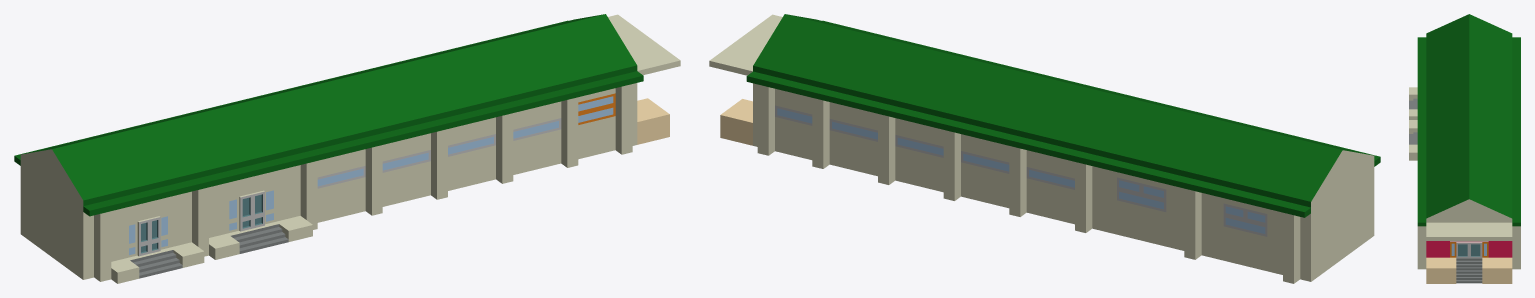
File: xprtLibrary (2).fbx
The picture shows the model from 3 angles, left to right: view 1: azimuth 30°, elevation 25°; view 2: azimuth 150°, elevation 25°; view 3: azimuth 270°, elevation 25°; orthographic projection. The views are drawn at different scales.
Visible parts, largest first — view 1: Cube; view 2: Cube; view 3: Cube.
Part boxes in pixels (left/top/right/bottom): Cube: left=14, top=14, right=680, bottom=283; Cube: left=709, top=14, right=1380, bottom=283; Cube: left=1409, top=14, right=1520, bottom=283.
Bounding box in the file's own units: 5500 × 950 × 1300.
